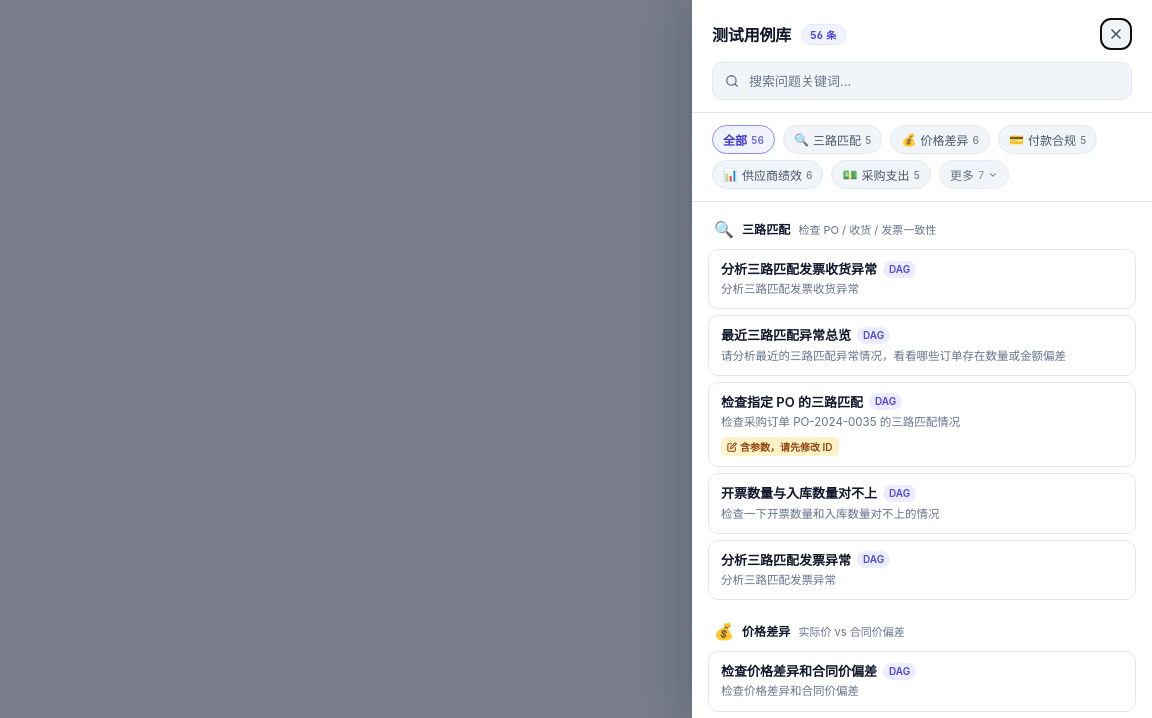
Test: ExamplePromptsDrawer › shows clear button in search when has value
In the field with placeholder "搜索问题关键词...": x=933, y=81 [747,72,1119,90], type "测试"
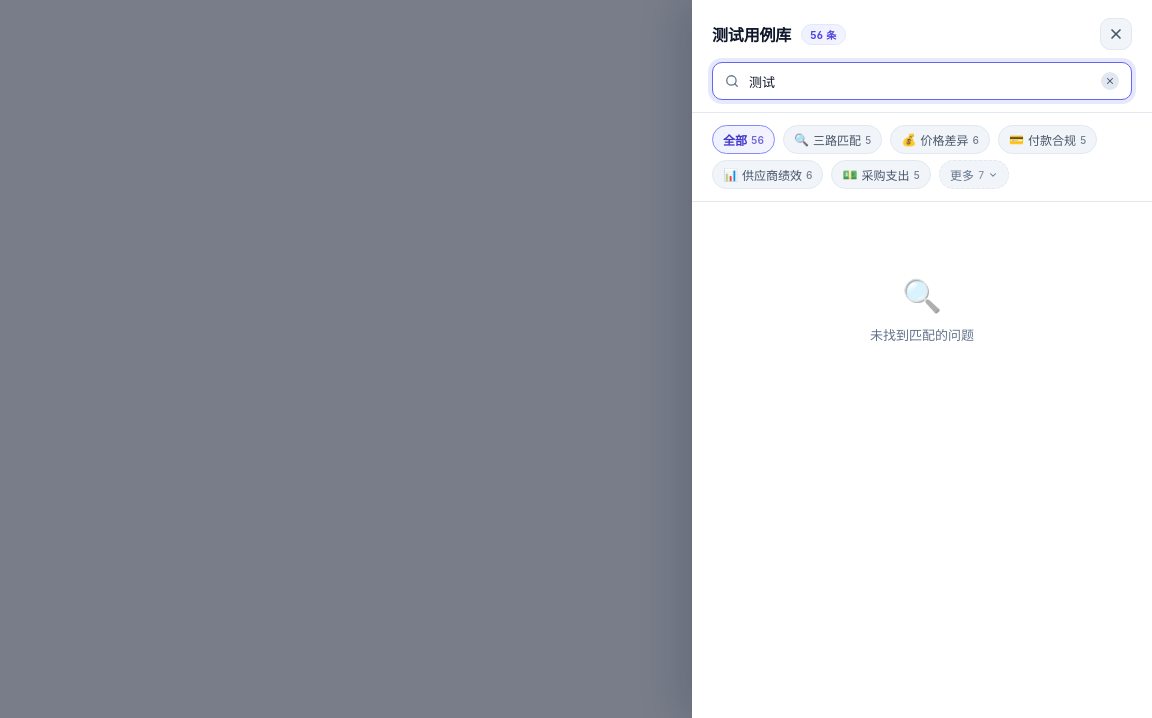
Result: the button named "清空" is shown
Click the button named "清空": x=1110, y=81 [1101,72,1119,90]
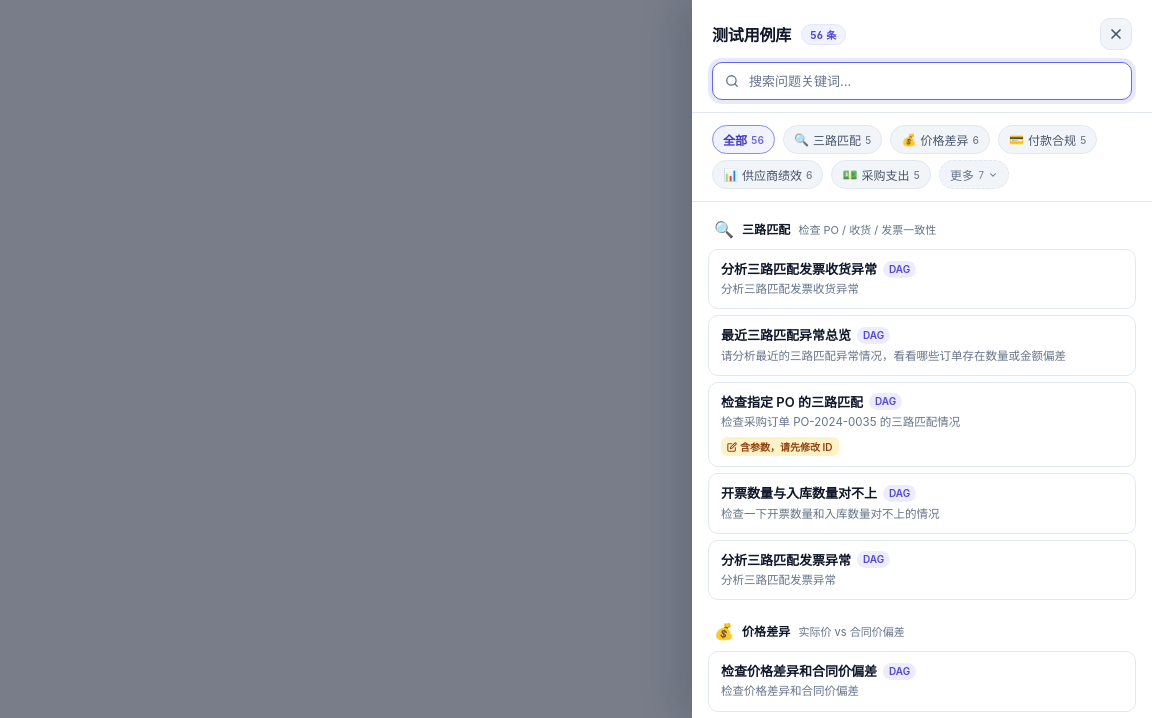
Result: the field with placeholder "搜索问题关键词..." is empty at [747,72,1119,90]
